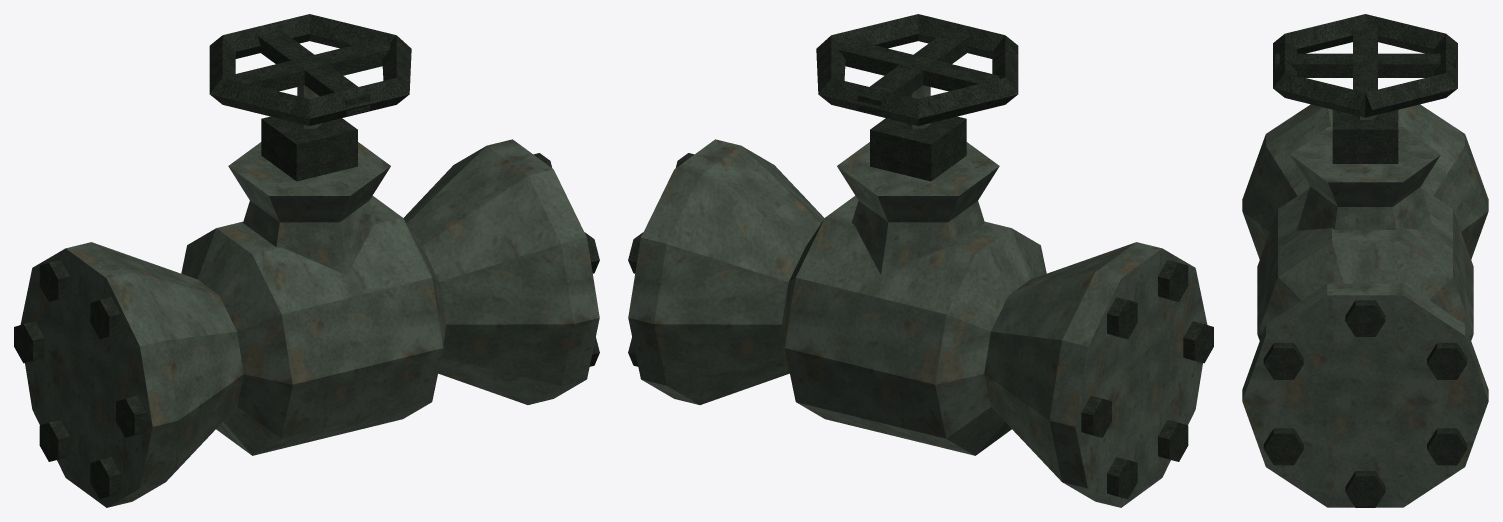
The model's file is SM_Pipe_Valve.fbx.
3 renders of one model, left to right at view 1: azimuth 30°, elevation 25°; view 2: azimuth 150°, elevation 25°; view 3: azimuth 270°, elevation 25°, orthographic. The views are drawn at different scales.
Visible parts, largest first — view 1: SM_Pipe_Valve; view 2: SM_Pipe_Valve; view 3: SM_Pipe_Valve.
Boxes of the visible parts, x1=… form: SM_Pipe_Valve: x1=14, y1=14, x2=599, y2=507; SM_Pipe_Valve: x1=628, y1=14, x2=1213, y2=507; SM_Pipe_Valve: x1=1242, y1=14, x2=1488, y2=507.
Size of the model in its own units: 0.4 by 0.3102 by 0.196.
